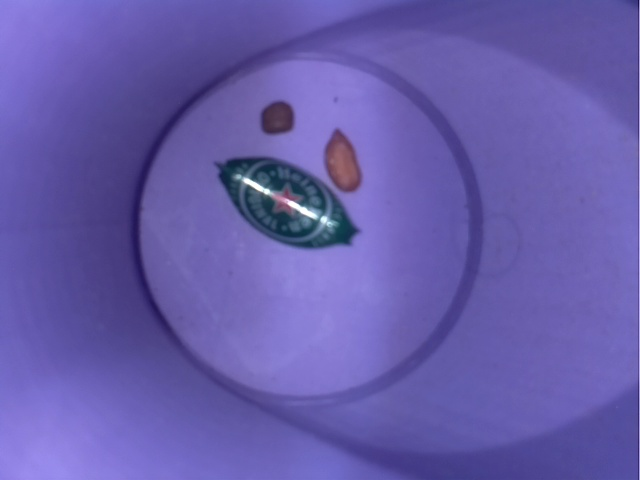capsule: (207, 145, 366, 272)
croquette: (318, 124, 364, 193), (253, 93, 304, 139)
